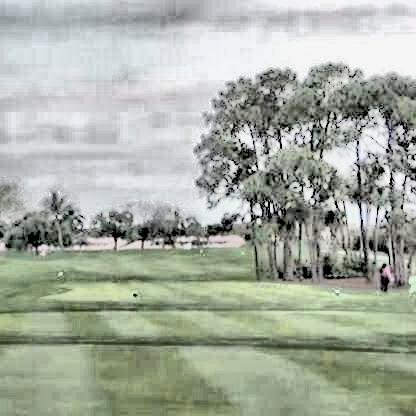golfball: (100, 207, 110, 217)
